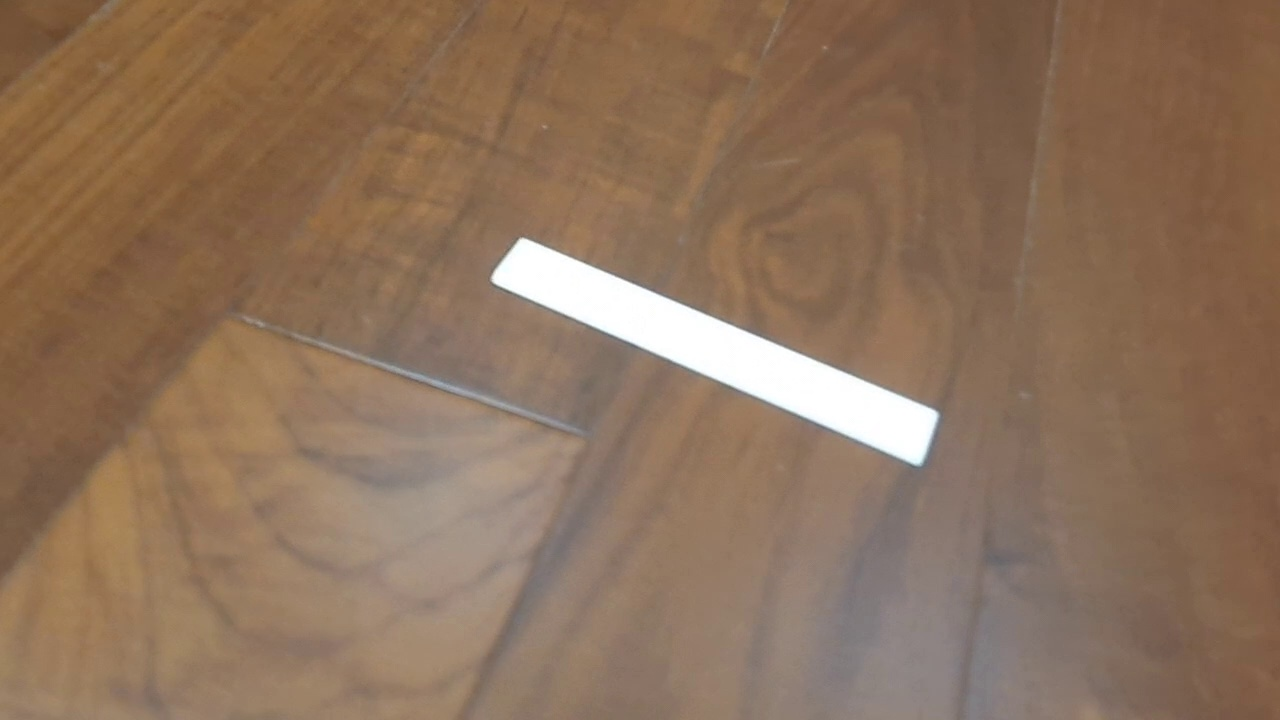ruler: (487, 235, 941, 468)
